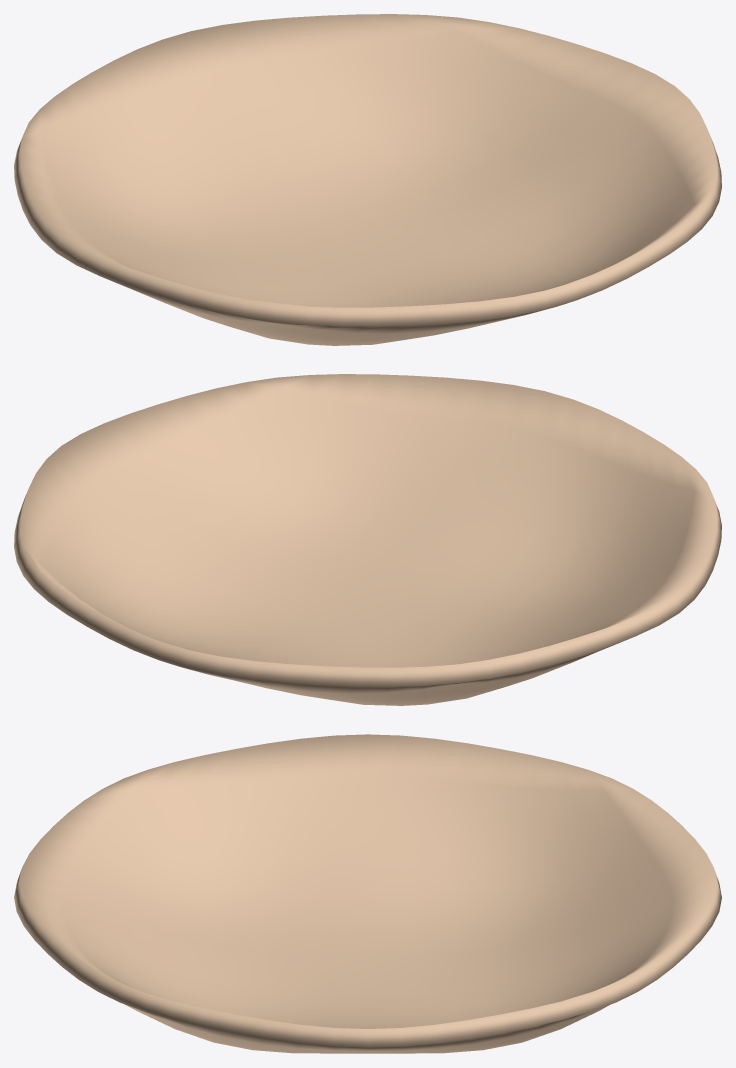
Rendered from tányér.fbx.
The picture shows the model from 3 angles, top to bottom: view 1: azimuth 30°, elevation 25°; view 2: azimuth 150°, elevation 25°; view 3: azimuth 270°, elevation 25°; orthographic projection.
Parts seen in each view (by area): view 1: Cube.179; view 2: Cube.179; view 3: Cube.179.
Boxes of the visible parts, x1,y1,x2,y2 form: Cube.179: (14,14,721,345); Cube.179: (14,374,721,705); Cube.179: (14,734,721,1053).
Bounding box in the file's own units: 141 × 23.99 × 141.
